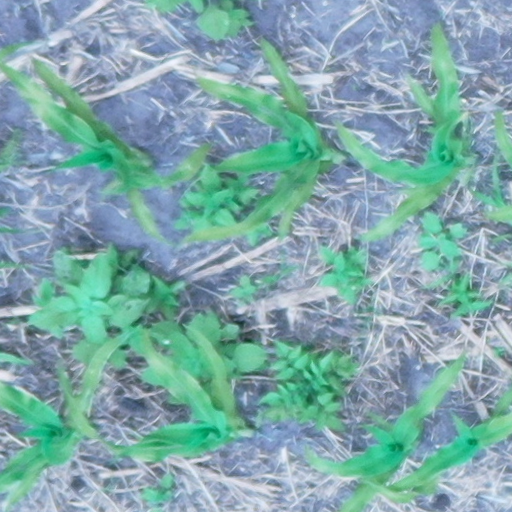planta: (174, 38, 325, 249), (331, 21, 474, 242), (66, 324, 241, 460)
